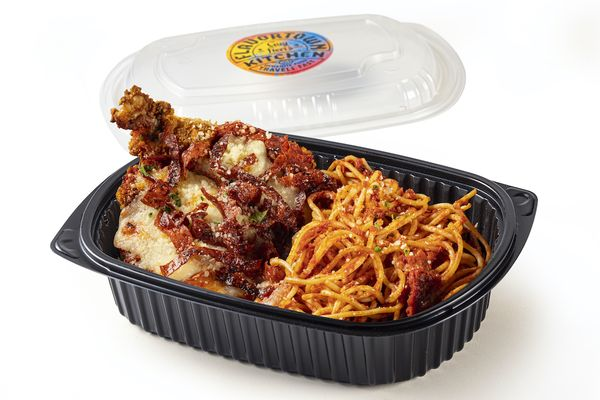sushi: (54, 127, 539, 387)
